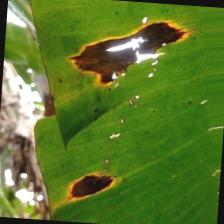cordana: (13, 0, 224, 224)
